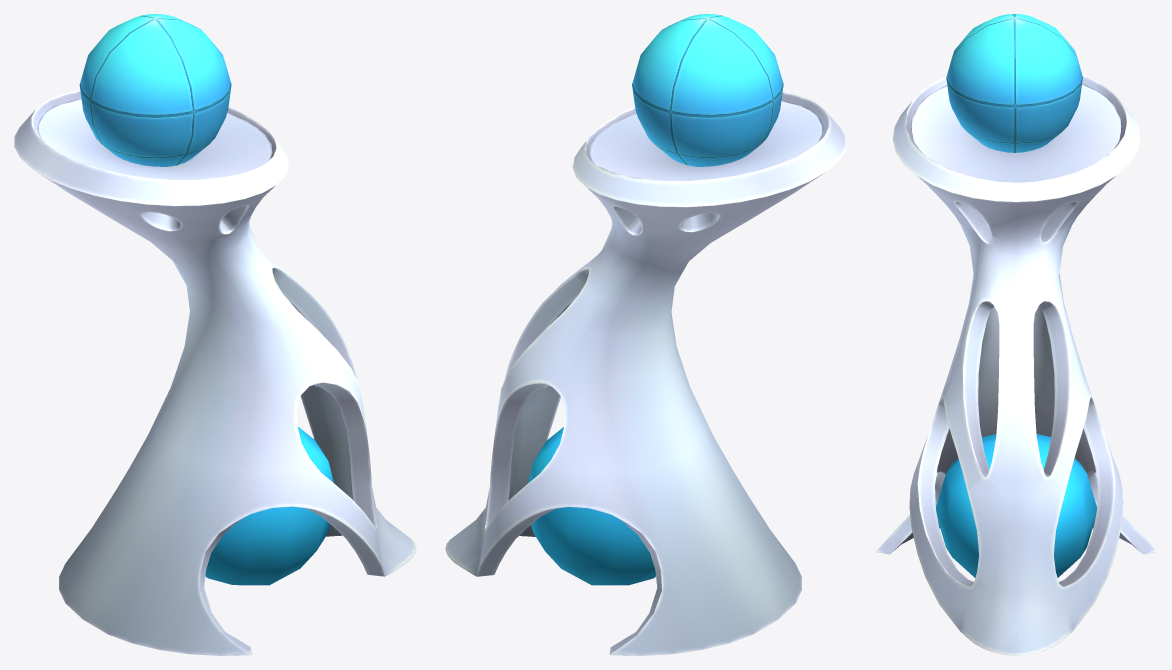
Rendered from obj_decoration04.gltf.
The picture shows the model from 3 angles, left to right: view 1: azimuth 30°, elevation 25°; view 2: azimuth 150°, elevation 25°; view 3: azimuth 270°, elevation 25°; orthographic projection. The views are drawn at different scales.
Parts seen in each view (by area): view 1: obj_decoration04; view 2: obj_decoration04; view 3: obj_decoration04.
Part boxes in pixels (x1=…): obj_decoration04: x1=14, y1=14, x2=416, y2=655; obj_decoration04: x1=445, y1=14, x2=846, y2=655; obj_decoration04: x1=875, y1=14, x2=1157, y2=655.
Size of what is drawn, in the model's own units: 3.21 by 4.74 by 2.31.
2 materials, 2 textured.
